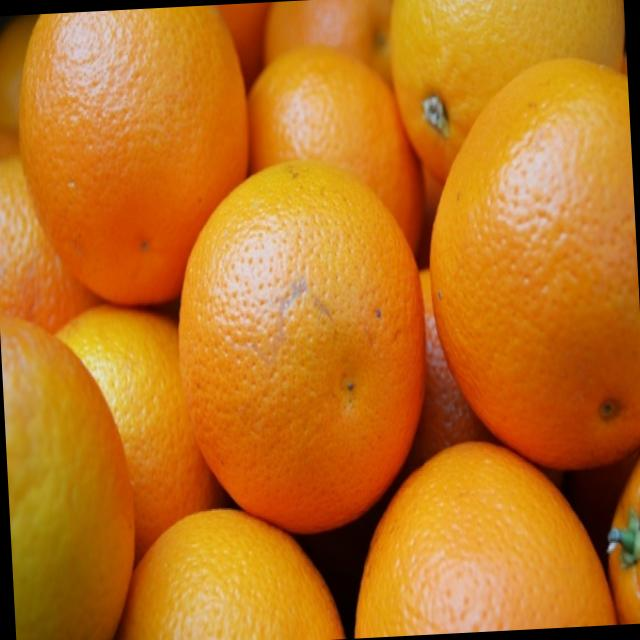orange: (156, 152, 448, 536), (414, 57, 640, 470), (8, 3, 253, 314), (203, 33, 444, 340), (327, 421, 619, 638)
